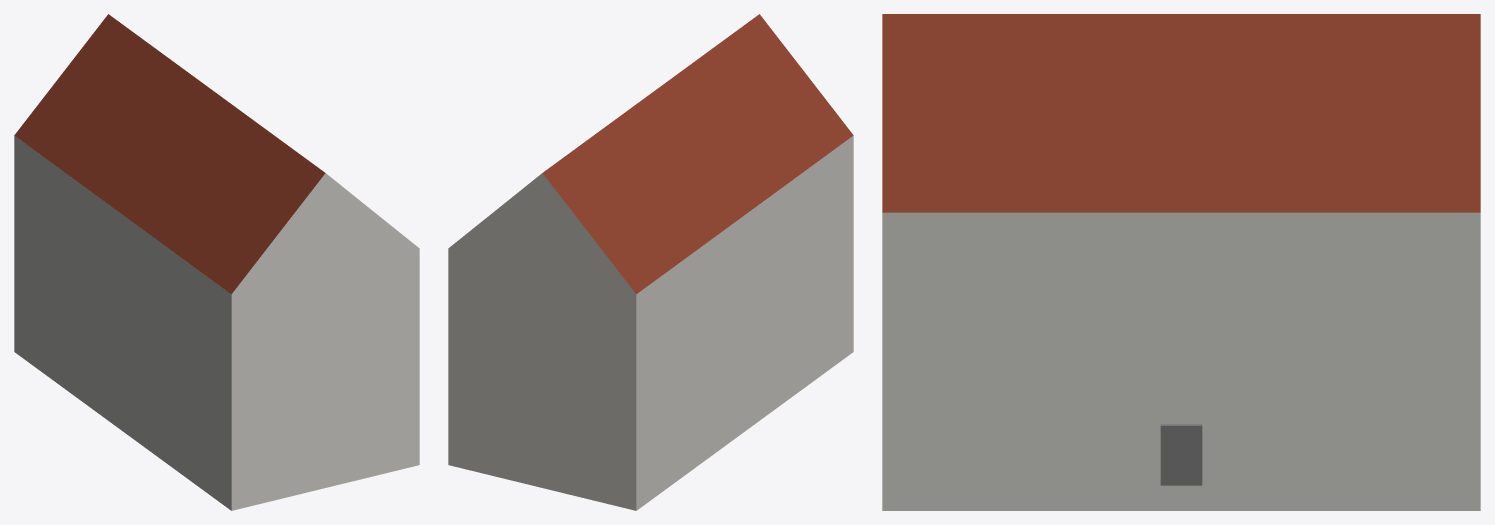
The model's file is house_1.BaJiwC2B.glb.
3 views of the same model, side by side, from view 1: azimuth 30°, elevation 25°; view 2: azimuth 150°, elevation 25°; view 3: azimuth 270°, elevation 25° (orthographic). The views are drawn at different scales.
Visible parts, largest first — view 1: base, roof; view 2: base, roof; view 3: base, roof, door.
Part boxes in pixels (bbox=[...]): base: bbox=[14, 135, 419, 510]; roof: bbox=[14, 14, 419, 294]; base: bbox=[448, 135, 853, 510]; roof: bbox=[448, 14, 853, 294]; base: bbox=[882, 212, 1480, 510]; roof: bbox=[882, 14, 1480, 212]; door: bbox=[1160, 424, 1202, 485].
Size of the model in its own units: 1.01 by 1.6 by 2.
